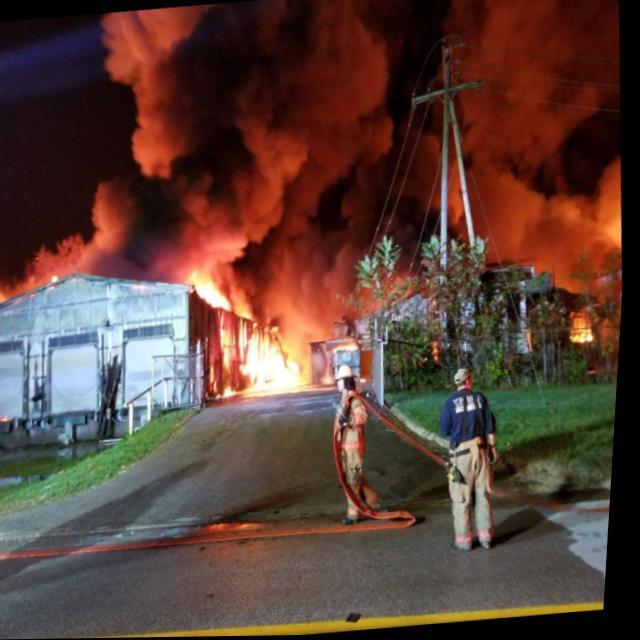fire: (237, 335, 315, 403), (187, 267, 240, 318), (570, 328, 599, 349)
